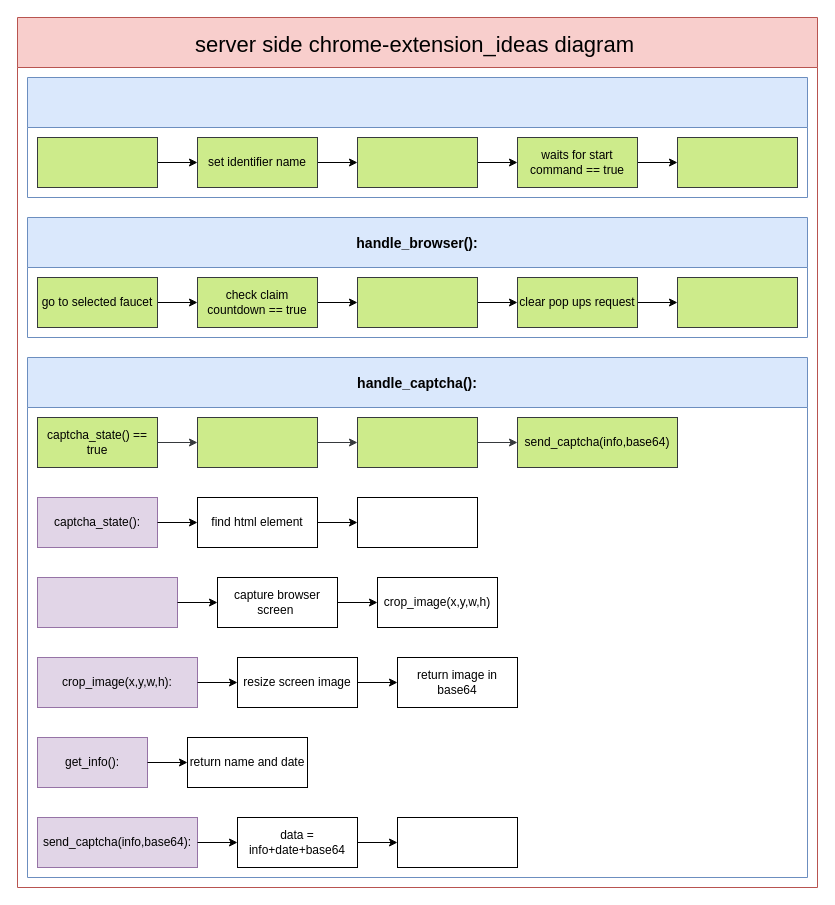
Some shapes in this 835 by 905 pixel diagram are drawn without their labels. Here are the shapes that lost their labels. From the top down, the box of each, then its label:
(26, 76, 808, 198): config_browser():
(36, 136, 158, 188): set faucet
(356, 136, 478, 188): connect to server
(676, 136, 798, 188): handle_browser()
(356, 276, 478, 328): avoid redirection
(676, 276, 798, 328): handle_captcha()
(196, 416, 318, 468): get_screenshot(x,y)
(356, 416, 478, 468): get_info()
(356, 496, 478, 548): return element visible state
(36, 576, 178, 628): get_screenshot(x,y,w,h):
(396, 816, 518, 868): fetch server.ip/data
